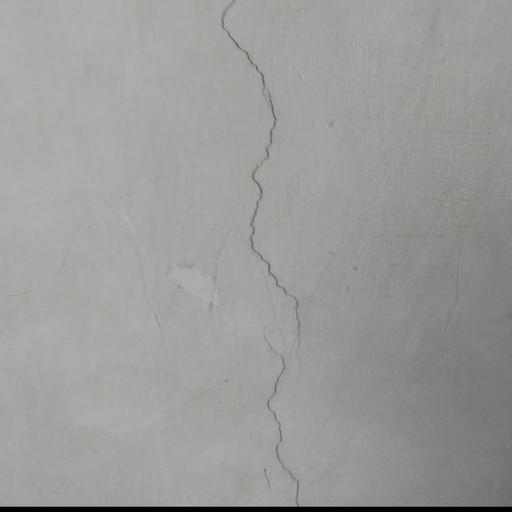minor_crack: (219, 0, 314, 507)
